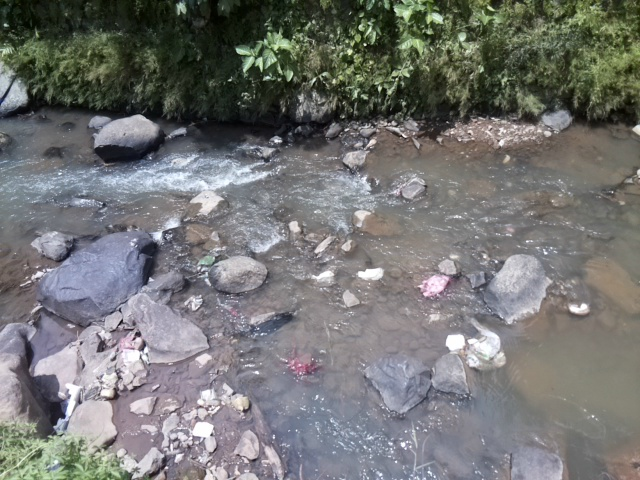Sampah_Plastik: (467, 322, 504, 370), (419, 273, 451, 299), (291, 356, 319, 376), (115, 335, 139, 351)
Sampah_Styrofoam: (444, 331, 467, 352), (192, 420, 214, 438), (358, 268, 383, 281)
